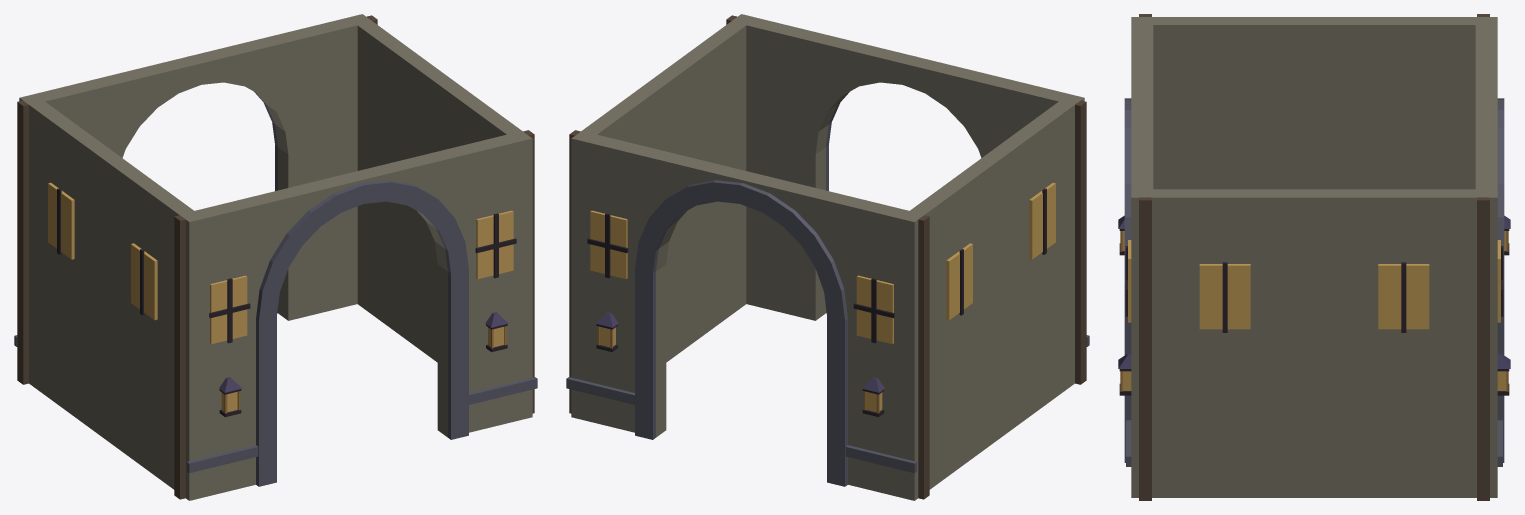
Rendered from HauntedWoods_ManorGatehouse_Showcase.glb.
3 renders of one model, left to right at view 1: azimuth 30°, elevation 25°; view 2: azimuth 150°, elevation 25°; view 3: azimuth 270°, elevation 25°, orthographic. The views are drawn at different scales.
Visible parts, largest first — view 1: HauntedWoods_ManorGatehouse_Showcase; view 2: HauntedWoods_ManorGatehouse_Showcase; view 3: HauntedWoods_ManorGatehouse_Showcase.
Part boxes in pixels (<box>): HauntedWoods_ManorGatehouse_Showcase: <box>14,14,537,500</box>; HauntedWoods_ManorGatehouse_Showcase: <box>566,14,1089,500</box>; HauntedWoods_ManorGatehouse_Showcase: <box>1118,14,1510,500</box>.
Bounding box in the file's own units: 6.92 × 5.2 × 6.15.
